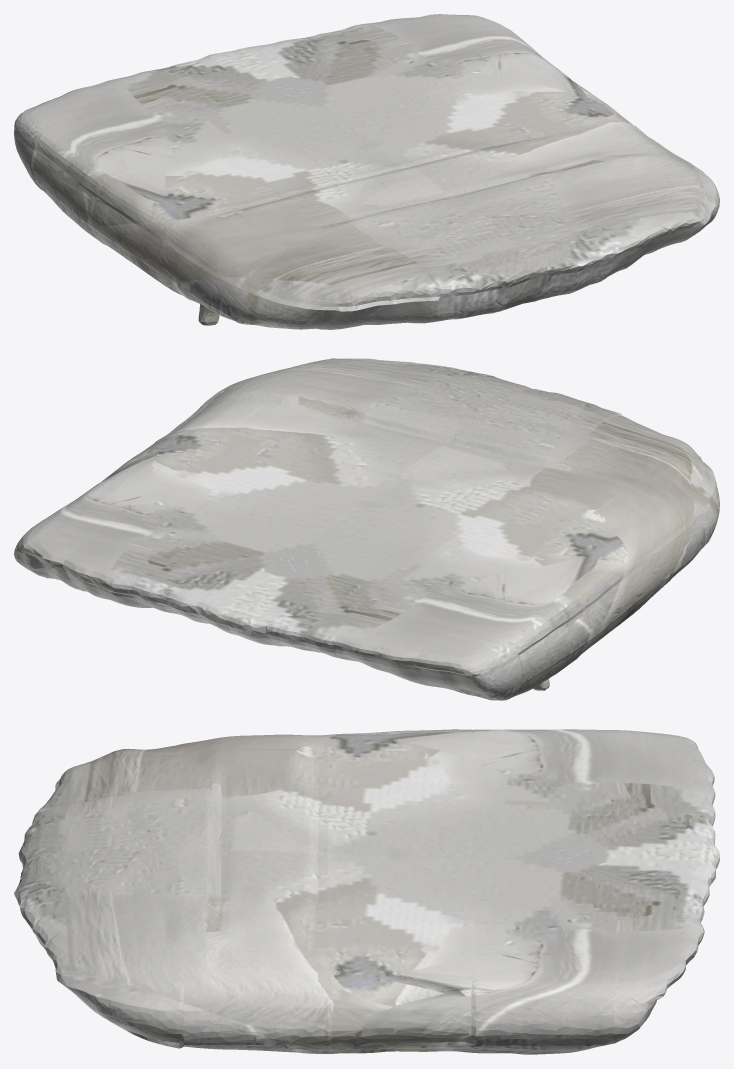
Rendered from bedroom-2-00-bed.glb.
3 renders of one model, top to bottom at view 1: azimuth 30°, elevation 25°; view 2: azimuth 150°, elevation 25°; view 3: azimuth 270°, elevation 25°, orthographic. The views are drawn at different scales.
Visible parts, largest first — view 1: geometry_0; view 2: geometry_0; view 3: geometry_0.
Boxes of the visible parts, box(x1,y1,x2,y2) form: geometry_0: box(14, 14, 719, 329); geometry_0: box(14, 358, 719, 700); geometry_0: box(14, 729, 719, 1054).
Bounding box in the file's own units: 2.44 × 0.6995 × 2.61.
Materials: 1 (1 with a texture image).
